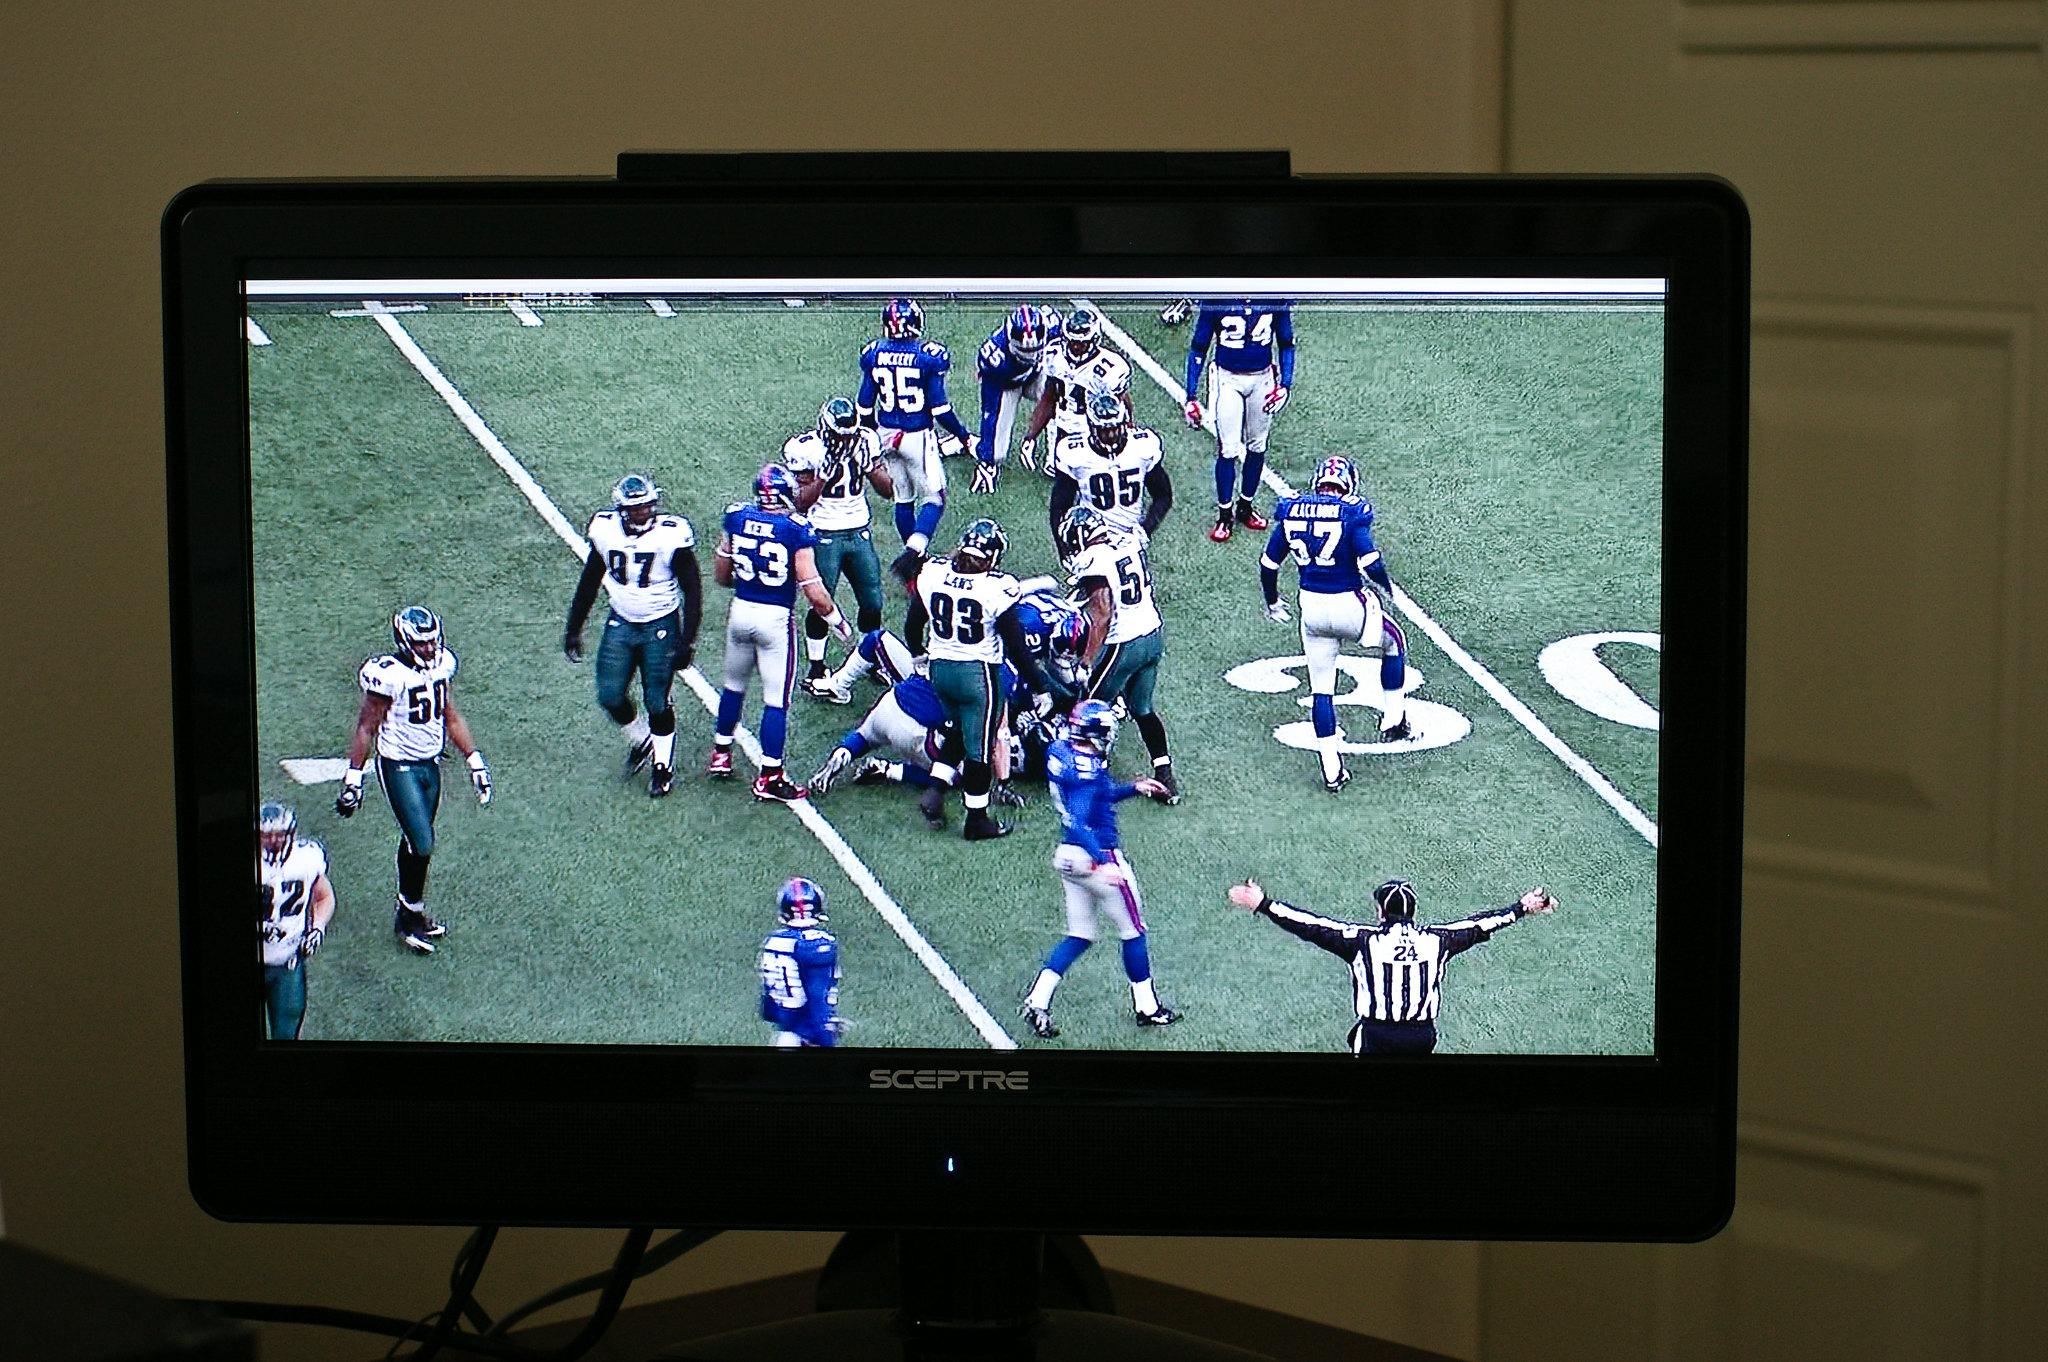tv monitor: (147, 175, 1773, 1234)
